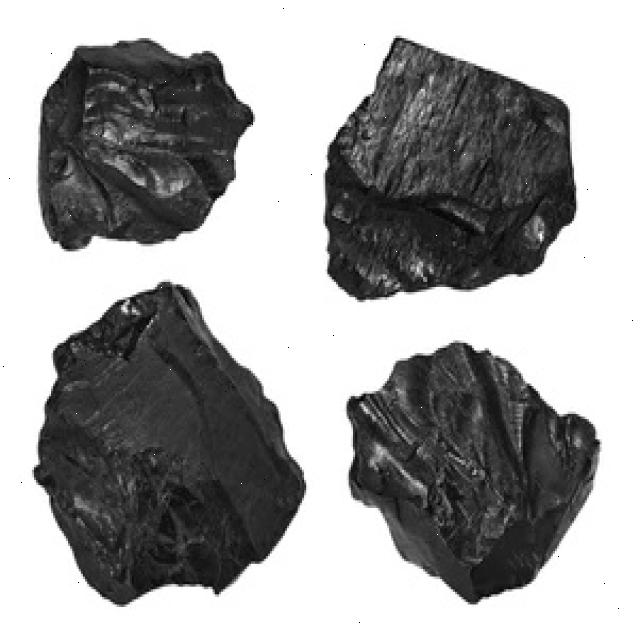Sedimentary: (25, 280, 308, 600), (313, 36, 591, 307), (338, 328, 602, 596), (34, 35, 251, 256)
